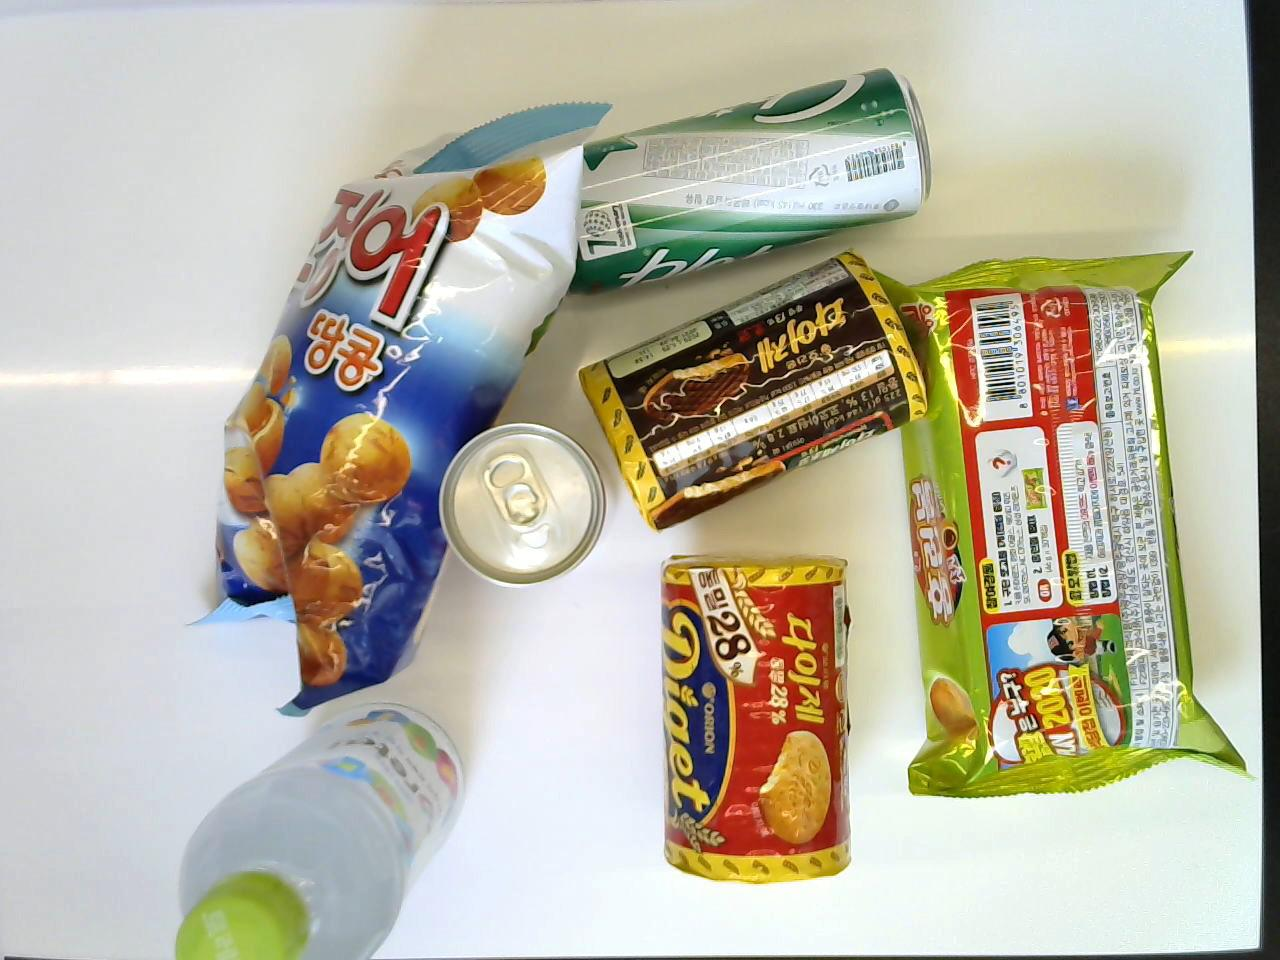cidar: (545, 63, 934, 306)
coke: (434, 419, 607, 589)
diget_choco: (577, 249, 933, 532)
diget_ori: (662, 552, 851, 882)
homerunball: (875, 249, 1257, 798)
squid_peanut: (182, 97, 609, 719)
toreta: (172, 702, 466, 960)
